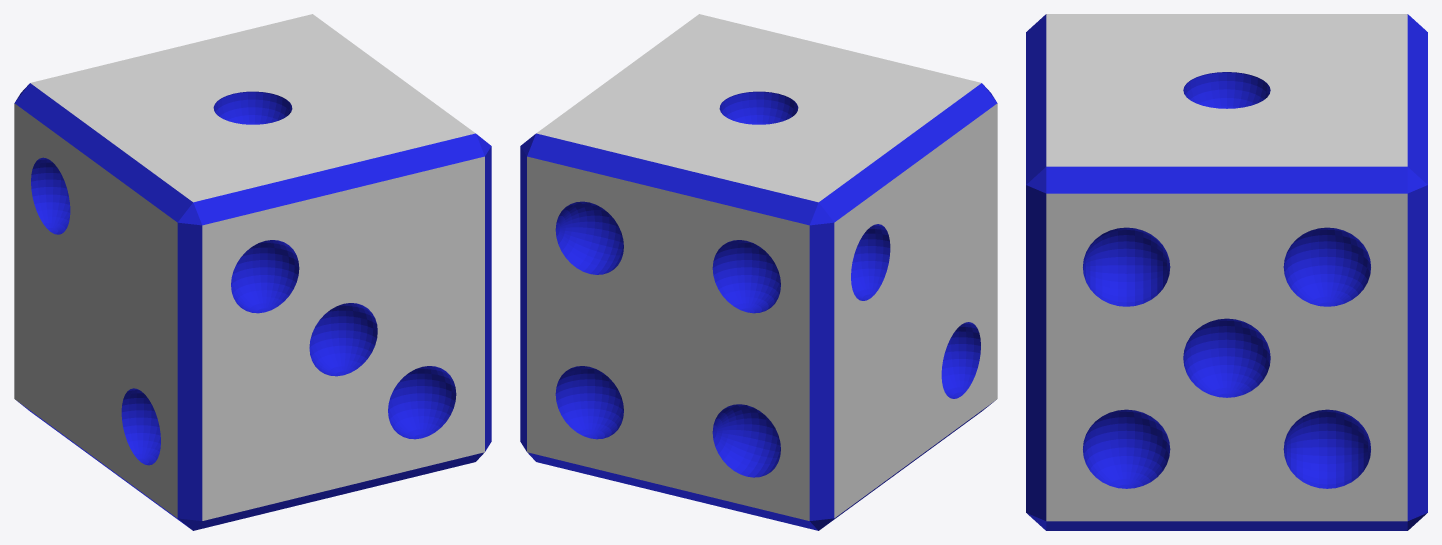
File: die.glb
The picture shows the model from 3 angles, left to right: view 1: azimuth 30°, elevation 25°; view 2: azimuth 150°, elevation 25°; view 3: azimuth 270°, elevation 25°; orthographic projection. The views are drawn at different scales.
Visible parts, largest first — view 1: Cube; view 2: Cube; view 3: Cube.
Part boxes in pixels (box(x1,y1,x2,y2)): Cube: box(14, 14, 491, 530); Cube: box(520, 14, 997, 530); Cube: box(1026, 14, 1427, 530).
Bounding box in the file's own units: 2 × 2 × 2.
